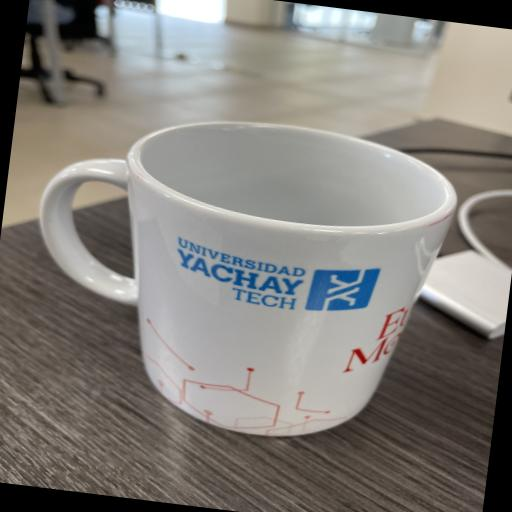taza: (16, 90, 473, 463)
